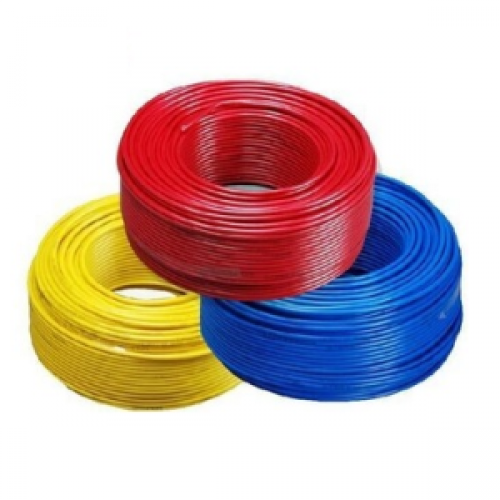Nonrec_Tangler: (23, 50, 472, 437), (194, 152, 465, 416), (101, 63, 352, 288), (23, 176, 254, 412)
